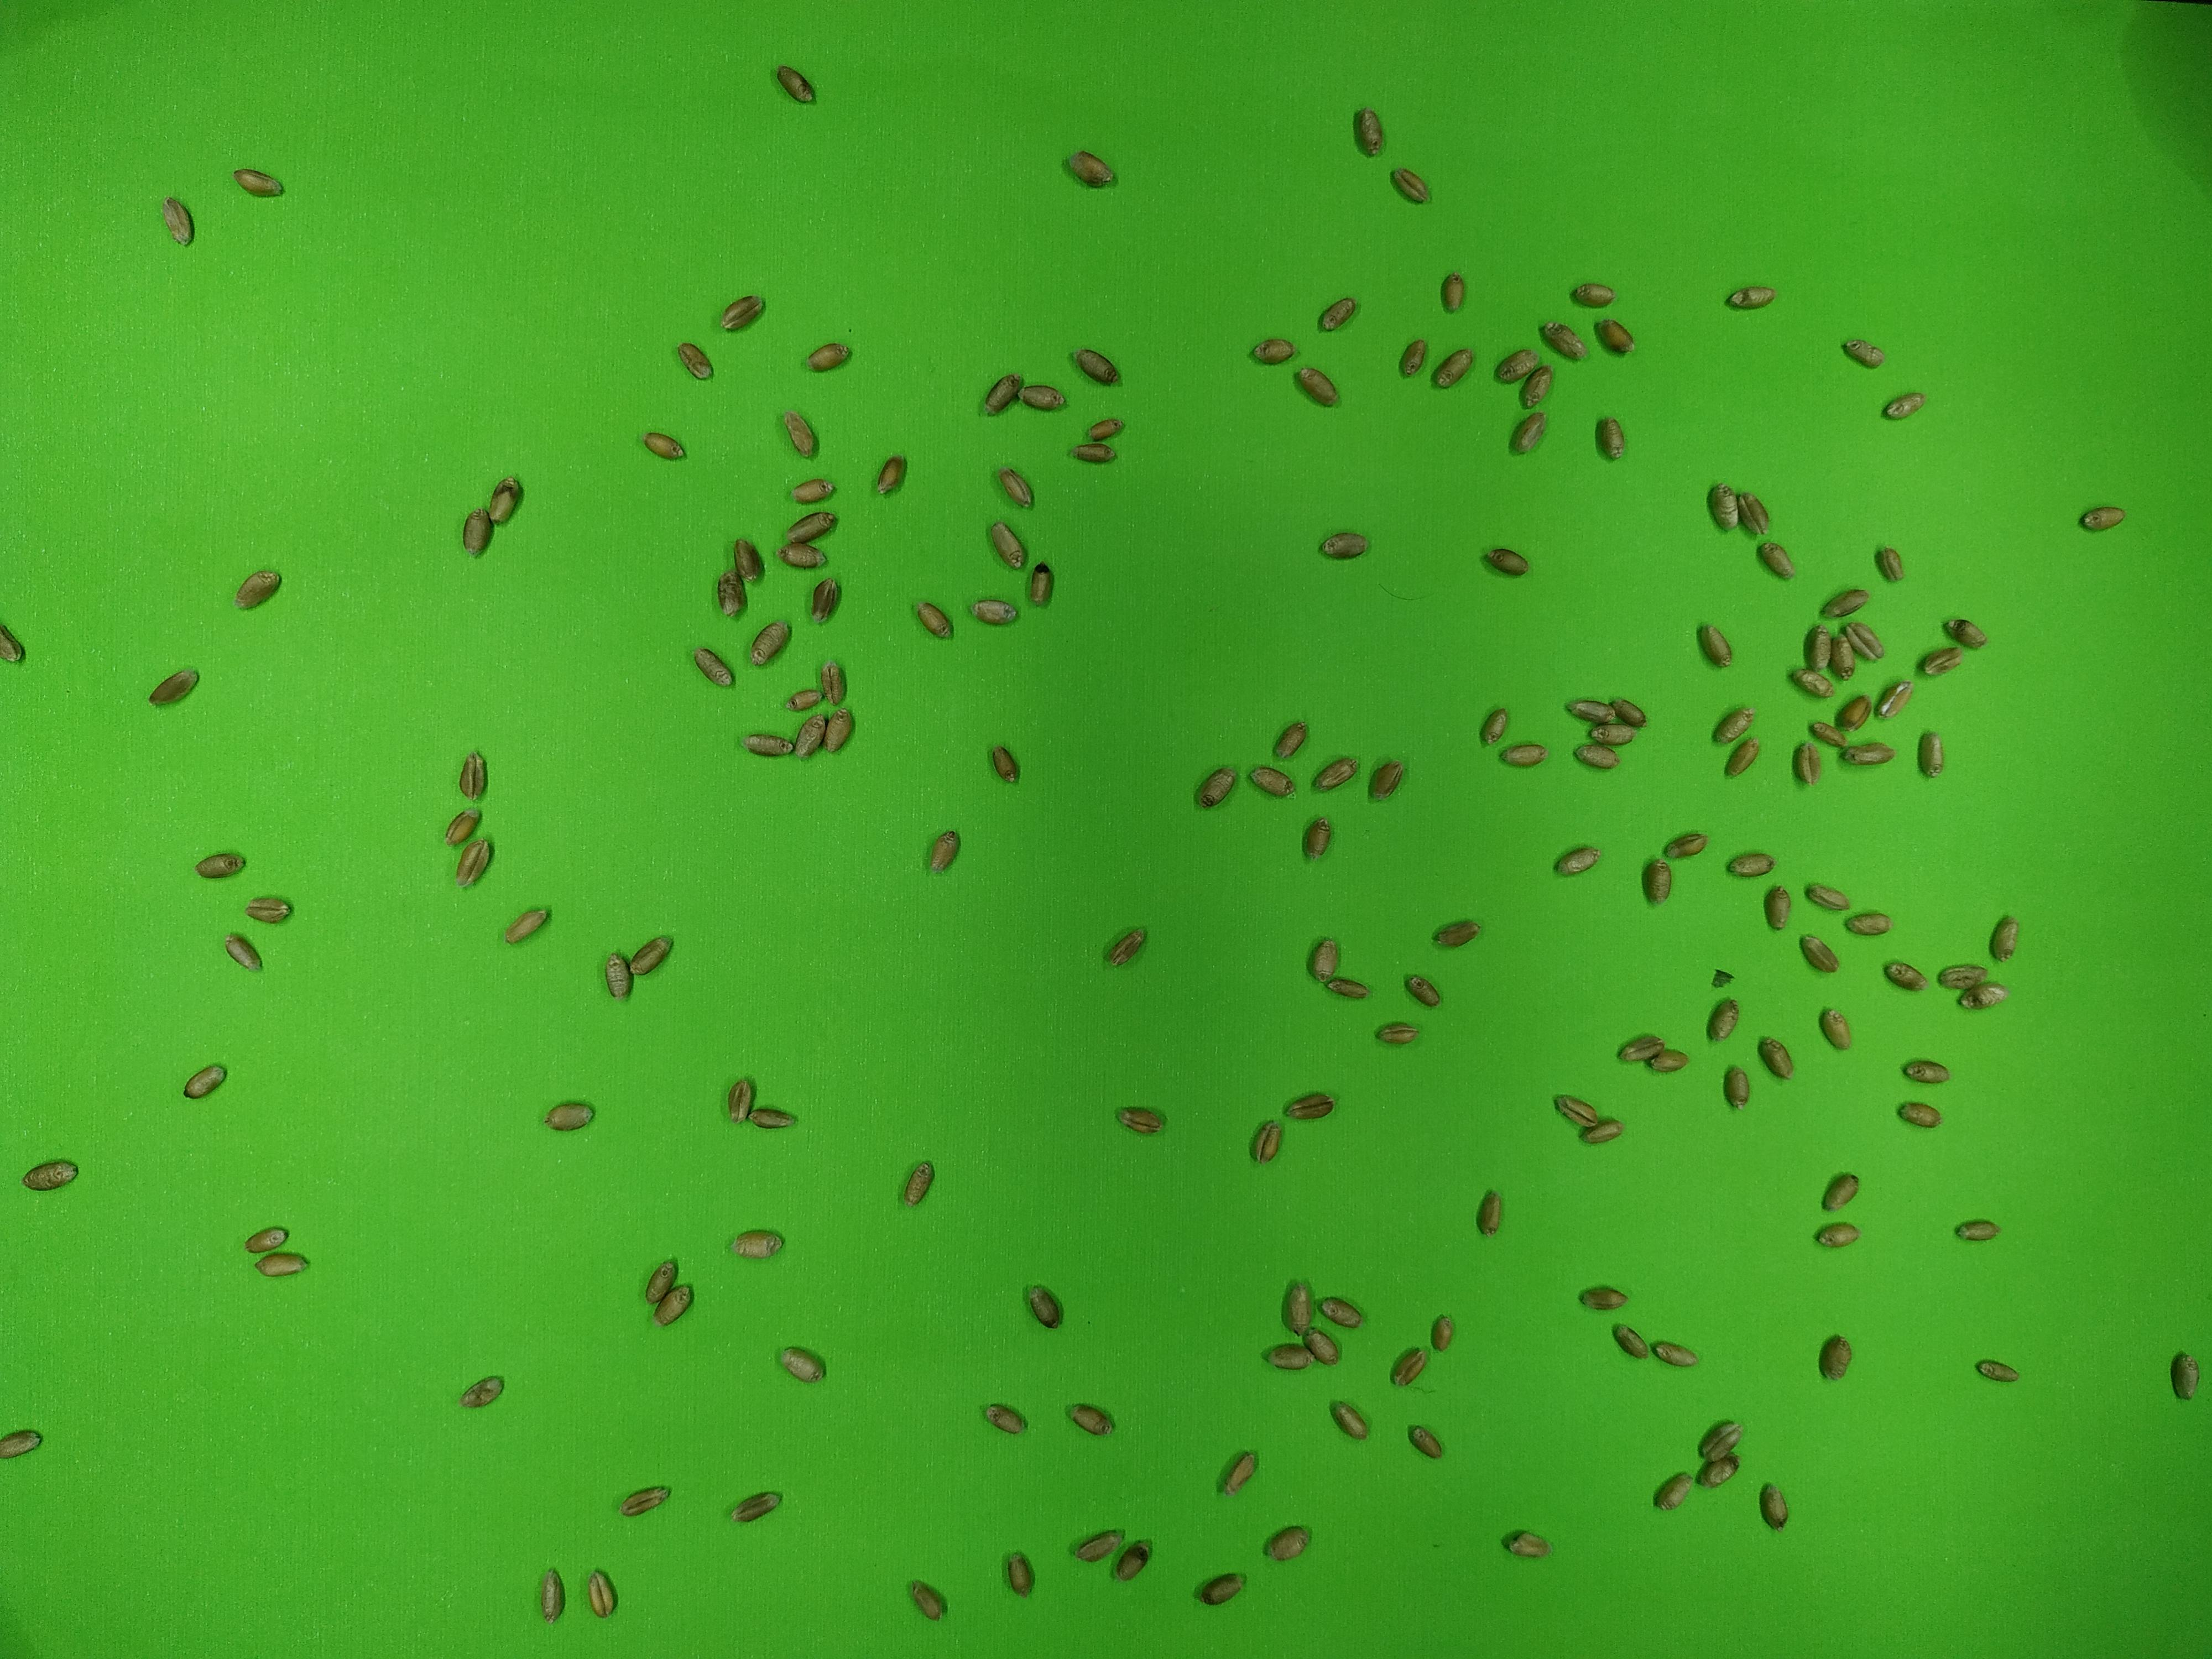bueno: (770, 58, 820, 112), (484, 471, 526, 528), (148, 660, 199, 708), (1299, 1328, 1346, 1375), (1986, 913, 2024, 967), (986, 739, 1026, 789), (775, 1345, 827, 1384), (813, 657, 852, 709), (583, 1565, 618, 1622), (1062, 150, 1116, 186), (599, 948, 636, 1002), (1517, 362, 1561, 408), (1111, 1539, 1155, 1584), (871, 451, 913, 498), (627, 934, 674, 976), (672, 336, 712, 385), (1000, 1549, 1038, 1600), (965, 592, 1017, 629), (1702, 999, 1743, 1044), (1327, 1398, 1369, 1443), (1693, 624, 1735, 669), (1832, 741, 1900, 769), (723, 1075, 758, 1129), (712, 566, 747, 620), (1705, 479, 1740, 533), (455, 835, 493, 884), (819, 706, 857, 755), (637, 427, 686, 465), (1893, 1096, 1942, 1134), (1710, 708, 1761, 744), (1815, 1331, 1851, 1382), (1305, 936, 1341, 986), (1641, 857, 1677, 908), (545, 1098, 596, 1134), (1282, 1281, 1315, 1337), (462, 504, 495, 559), (1026, 1279, 1061, 1331), (749, 619, 791, 662), (1388, 1345, 1430, 1389), (160, 195, 195, 247), (1797, 932, 1841, 974), (1352, 105, 1386, 157), (1752, 540, 1797, 580), (1366, 758, 1406, 803), (1298, 816, 1336, 863), (1757, 887, 1796, 934), (1197, 1568, 1244, 1607), (233, 570, 280, 608), (810, 573, 843, 627), (1474, 1187, 1507, 1241), (178, 1065, 226, 1101), (1066, 1401, 1115, 1438), (1578, 1114, 1629, 1148), (787, 509, 838, 544), (1078, 411, 1129, 446), (1507, 413, 1548, 455), (1294, 364, 1336, 406), (728, 532, 759, 587), (1836, 690, 1878, 732), (1075, 345, 1118, 385), (221, 932, 265, 972), (1735, 493, 1773, 538), (1493, 349, 1538, 387), (1723, 847, 1775, 880), (728, 1227, 780, 1260), (1313, 296, 1360, 333), (986, 519, 1022, 566), (460, 1375, 507, 1412), (460, 748, 489, 805), (1827, 627, 1857, 685), (24, 1157, 73, 1192), (536, 1565, 564, 1626), (782, 408, 817, 457), (1026, 556, 1057, 610), (1500, 1528, 1554, 1560), (691, 645, 733, 685), (1541, 321, 1583, 361), (1270, 718, 1310, 760), (984, 371, 1024, 413), (1433, 349, 1475, 389), (1195, 767, 1235, 809), (1609, 1321, 1651, 1361), (1285, 1089, 1336, 1122), (1115, 1103, 1165, 1136), (1313, 755, 1357, 793), (444, 805, 482, 849), (1395, 335, 1432, 380), (1878, 389, 1933, 418), (738, 730, 791, 762), (1719, 1063, 1754, 1110), (2168, 1349, 2200, 1401), (1801, 624, 1836, 671), (256, 1249, 308, 1281), (716, 295, 763, 329), (192, 849, 244, 880), (1247, 763, 1294, 798), (1017, 382, 1066, 415), (913, 599, 953, 640), (1820, 1169, 1858, 1211), (1757, 1039, 1796, 1080), (1874, 680, 1916, 718), (242, 894, 296, 924), (655, 1281, 691, 1324), (1787, 742, 1824, 786), (1653, 1473, 1696, 1509), (1791, 662, 1834, 699), (1388, 169, 1432, 206), (1756, 1485, 1792, 1528), (1648, 1040, 1691, 1077), (1604, 692, 1648, 728), (232, 167, 282, 199), (1371, 1019, 1421, 1051), (775, 538, 826, 570), (1944, 615, 1989, 650), (1266, 1527, 1312, 1561), (1317, 1295, 1362, 1330), (1839, 338, 1886, 371), (1592, 413, 1625, 460), (1324, 974, 1371, 1007), (1552, 1093, 1599, 1126), (1822, 586, 1869, 619), (1575, 741, 1622, 774), (1881, 960, 1928, 993), (1249, 333, 1296, 366), (1914, 727, 1944, 779), (1700, 1450, 1740, 1488), (1106, 929, 1146, 967), (996, 467, 1036, 505), (1264, 1342, 1313, 1373), (1437, 268, 1468, 317), (1916, 645, 1965, 676), (1844, 908, 1893, 939), (1818, 1006, 1850, 1054), (1804, 882, 1853, 913), (1482, 545, 1531, 577), (1813, 1218, 1862, 1249), (1223, 1450, 1258, 1493), (0, 1425, 44, 1460), (1555, 843, 1599, 878), (794, 713, 827, 758), (1569, 279, 1615, 312), (1432, 917, 1477, 950), (805, 342, 850, 375), (927, 828, 956, 878), (1898, 1058, 1949, 1087), (1724, 281, 1771, 312), (1500, 739, 1547, 770), (732, 1492, 779, 1523), (1320, 530, 1367, 561), (902, 1162, 934, 1209), (1251, 1119, 1282, 1166), (2080, 502, 2127, 533), (1406, 1422, 1442, 1462), (1723, 737, 1763, 774), (1595, 317, 1635, 354), (1068, 437, 1116, 467), (1973, 1358, 2022, 1387), (1649, 1340, 1698, 1370), (787, 476, 836, 505), (505, 908, 549, 941), (1561, 697, 1615, 723), (1578, 1283, 1629, 1310), (617, 1486, 667, 1514), (1958, 979, 2008, 1007), (1851, 626, 1888, 664), (1702, 1420, 1742, 1455), (242, 1225, 289, 1255), (1808, 716, 1850, 749), (1480, 702, 1508, 751), (1930, 962, 1986, 986), (646, 1258, 674, 1307), (1620, 1033, 1665, 1063), (909, 1584, 948, 1619), (786, 683, 826, 716), (1402, 974, 1442, 1007), (1075, 1532, 1125, 1558), (744, 1105, 791, 1133), (1663, 830, 1707, 859), (1952, 1218, 2001, 1244), (1872, 545, 1905, 584), (1425, 1312, 1456, 1352), (986, 1401, 1022, 1434), (1588, 721, 1635, 746)
impureza: (1703, 965, 1737, 993)
